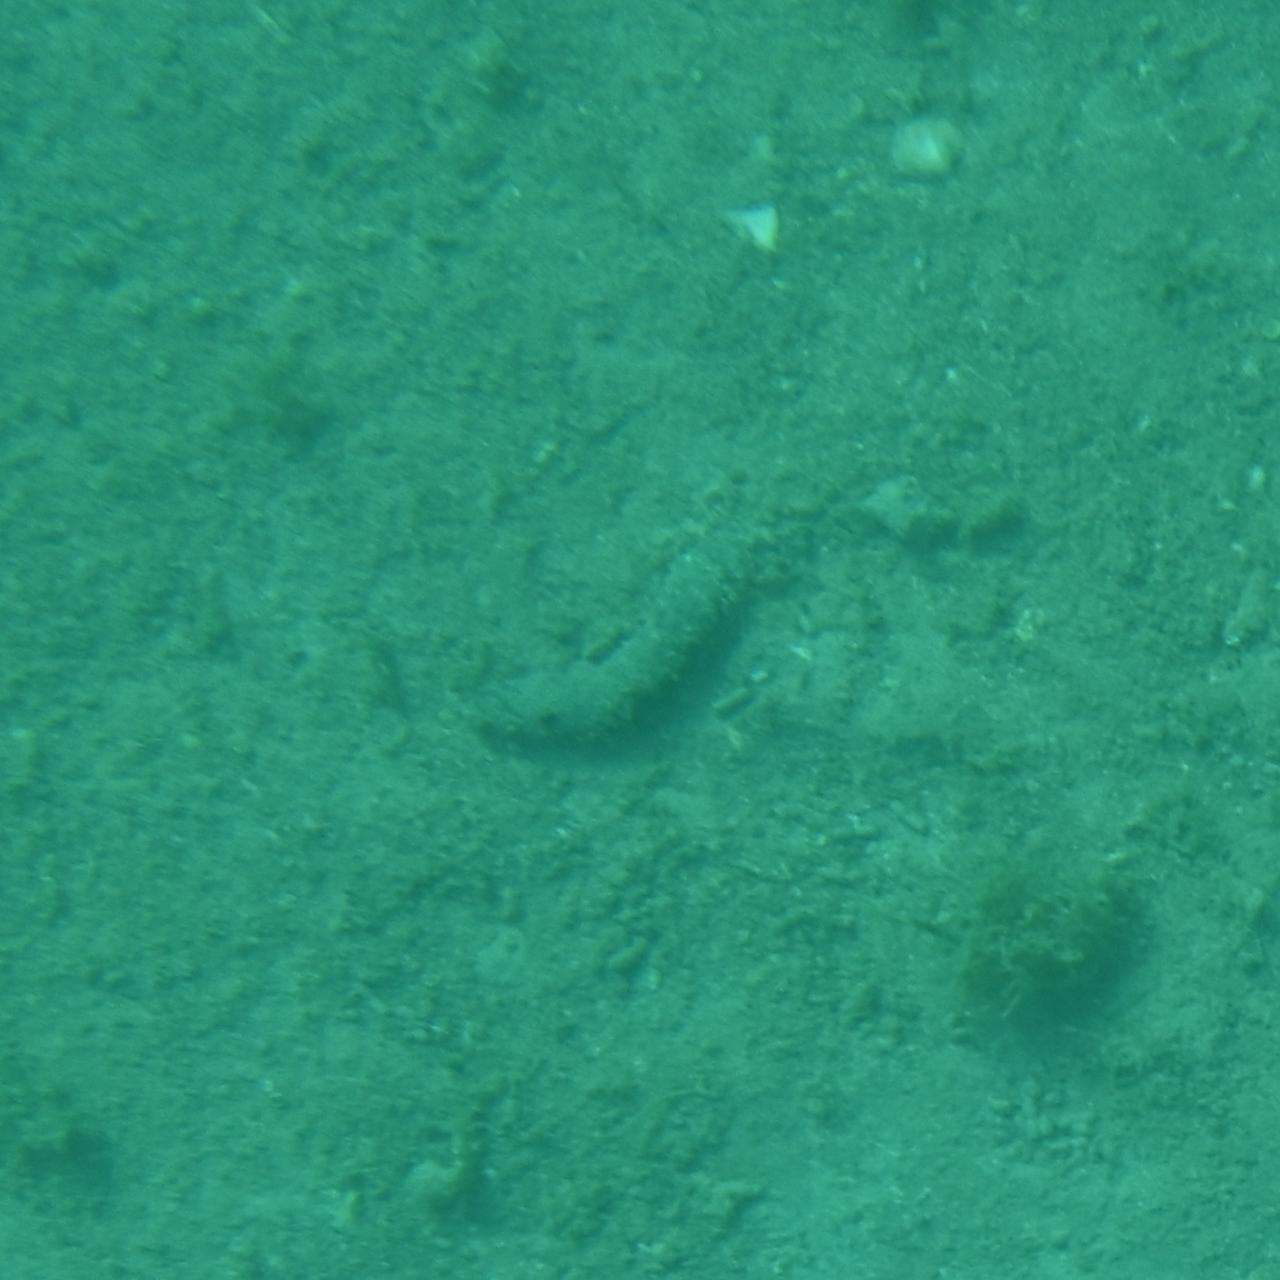Holothuria tubulosa: (477, 512, 803, 768)
